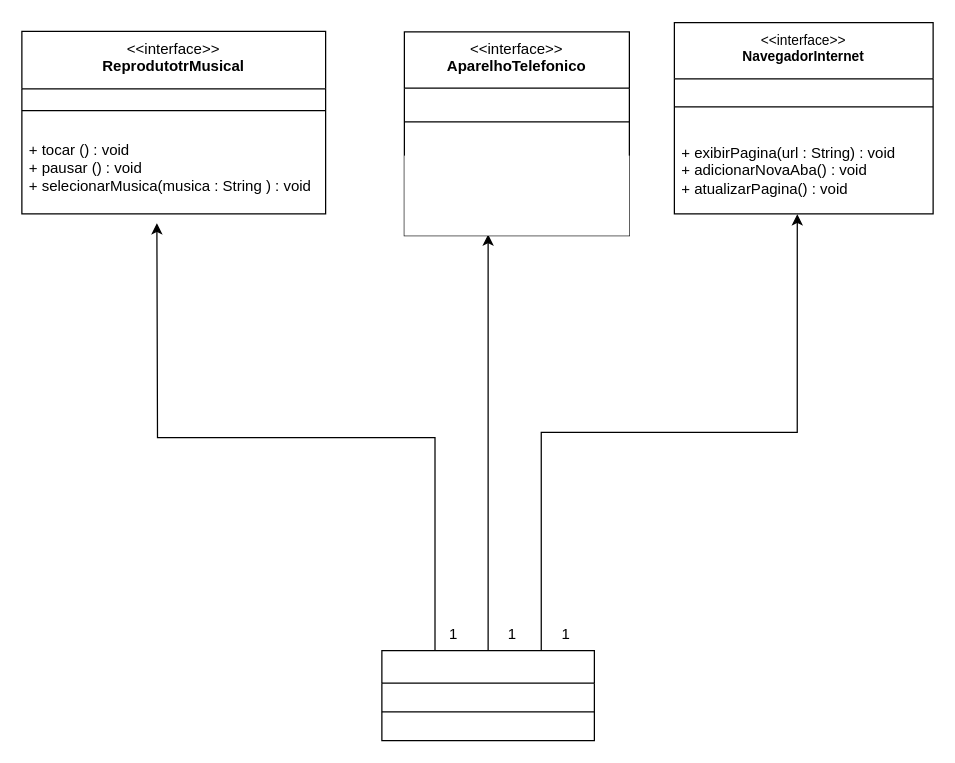
Image size: 955x763. Some labels were removed from this diagram. Each missing label, with the centre of its shape:
+ ligar( numero : String) : void + atender() : void + iniciarCorreioVoz() : void: the point at 516,195
iphone: the point at 487,695
